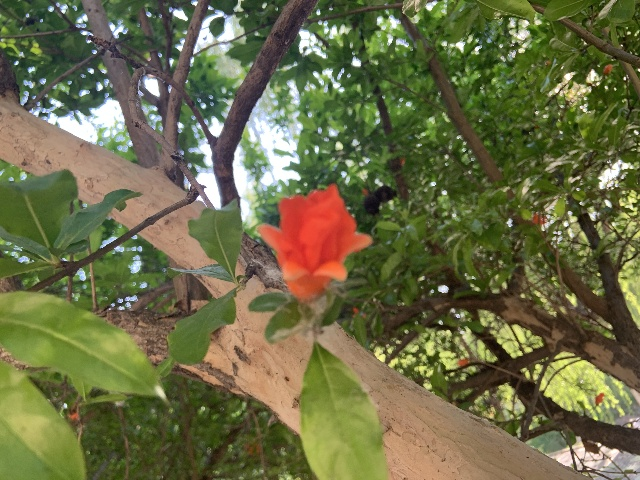bud: (603, 64, 612, 75)
flower: (256, 182, 372, 302), (595, 393, 604, 404)
